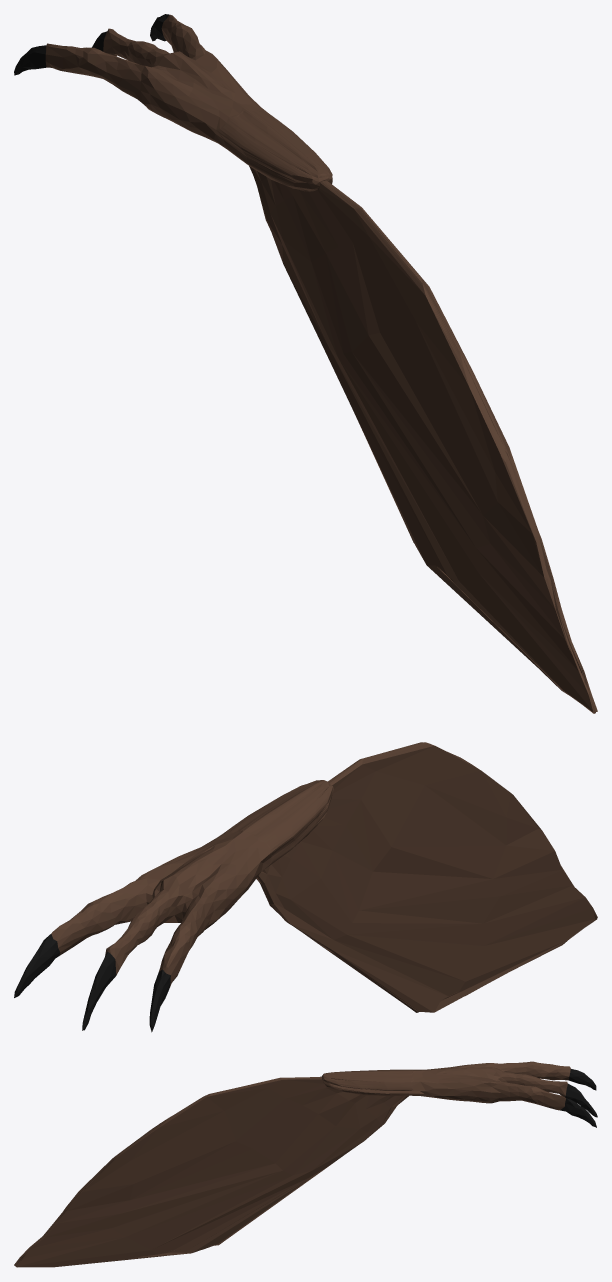
Rendered from Pterodactyl Hand.obj.
3 renders of one model, top to bottom at view 1: azimuth 30°, elevation 25°; view 2: azimuth 150°, elevation 25°; view 3: azimuth 270°, elevation 25°, orthographic. The views are drawn at different scales.
Visible parts, largest first — view 1: hand; view 2: hand; view 3: hand.
Part boxes in pixels (<box>): hand: <box>14,14,597,713</box>; hand: <box>14,742,597,1032</box>; hand: <box>14,1061,597,1267</box>.
Bounding box in the file's own units: 0.1546 × 0.3723 × 0.9861.
